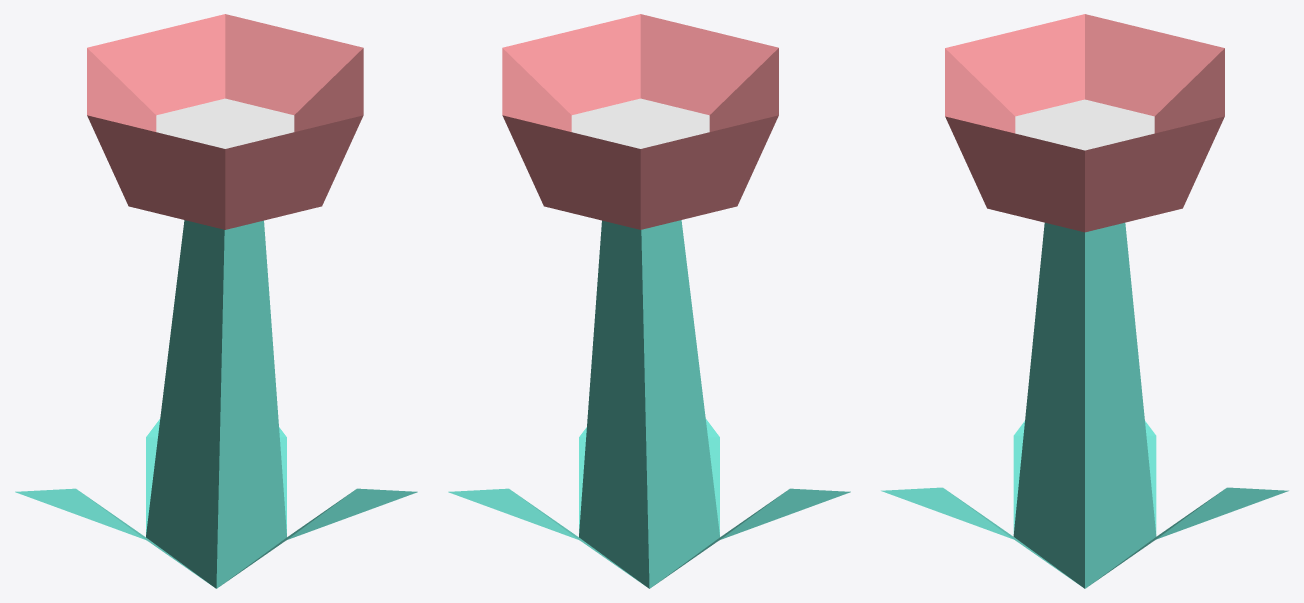
Rendered from flower_redC.glb.
3 views of the same model, side by side, from view 1: azimuth 30°, elevation 25°; view 2: azimuth 150°, elevation 25°; view 3: azimuth 270°, elevation 25° (orthographic).
Visible parts, largest first — view 1: flower_redC; view 2: flower_redC; view 3: flower_redC.
Part boxes in pixels (<box>): flower_redC: <box>15,14,417,588</box>; flower_redC: <box>448,14,850,588</box>; flower_redC: <box>881,14,1288,588</box>.
Bounding box in the file's own units: 0.1806 × 0.2325 × 0.1811.
